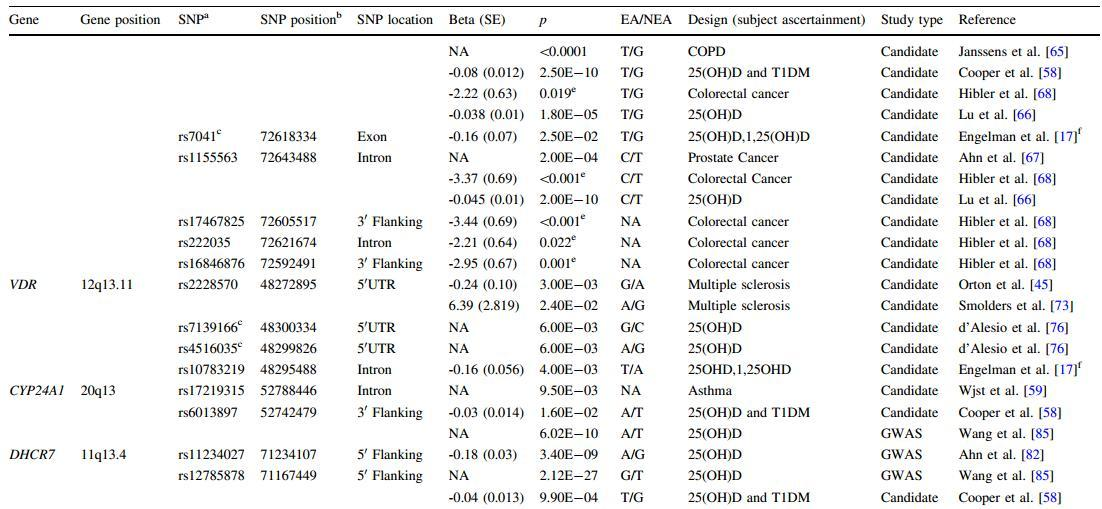table: (3, 1, 1101, 508)
